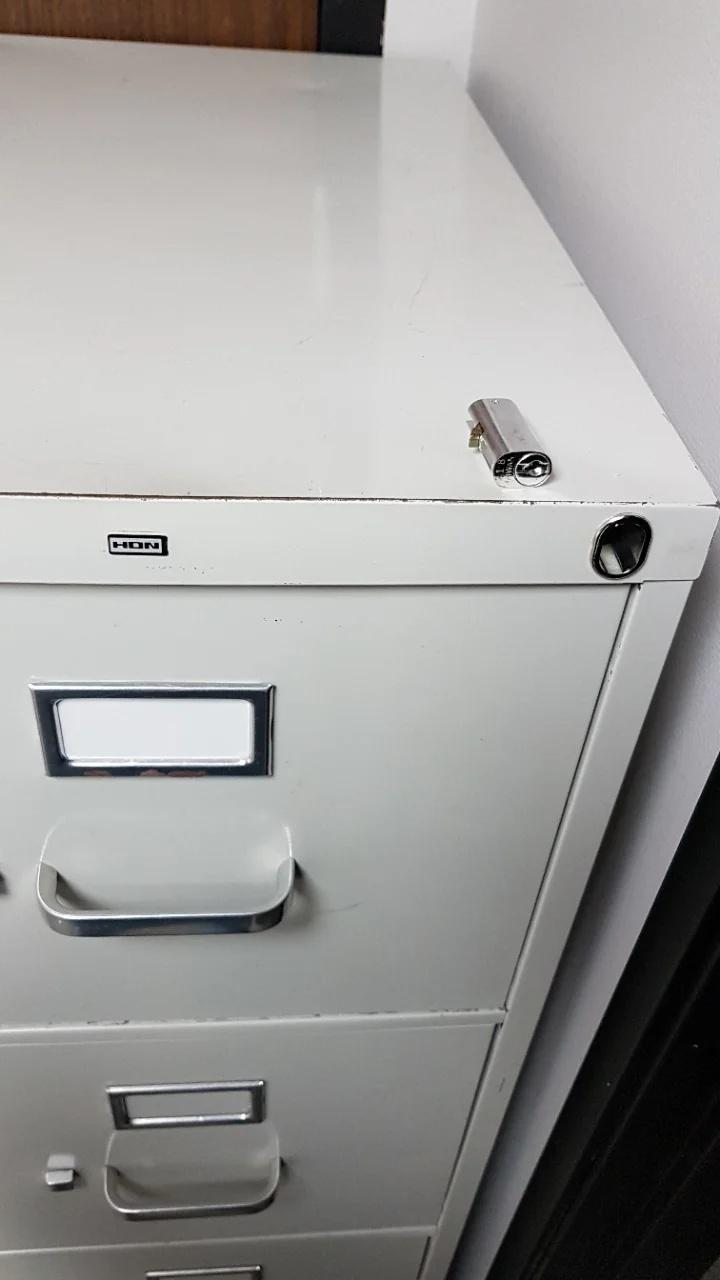Filing Cabinet: (0, 487, 718, 1279)
